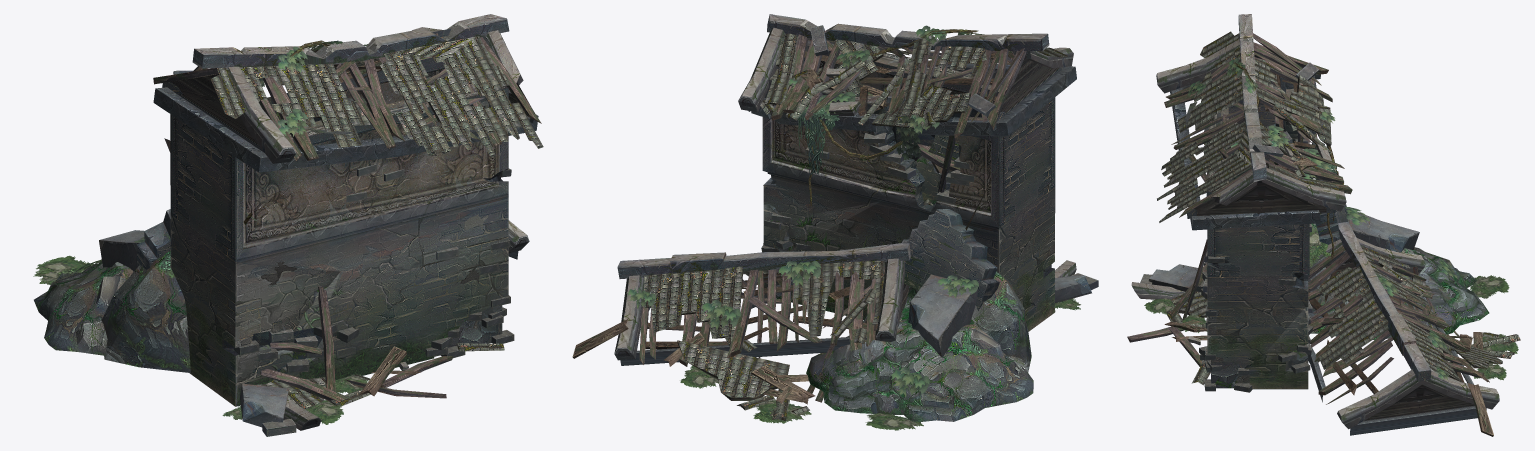
The model's file is Ruins_3.FBX.
3 views of the same model, side by side, from view 1: azimuth 30°, elevation 25°; view 2: azimuth 150°, elevation 25°; view 3: azimuth 270°, elevation 25° (orthographic). The views are drawn at different scales.
Visible parts, largest first — view 1: Ruins_3_A, Ruins_3_B, Ruins_3_C; view 2: Ruins_3_A, Ruins_3_B, Ruins_3_C; view 3: Ruins_3_A, Ruins_3_C, Ruins_3_B.
Part boxes in pixels (x1,y1,x2,y2): Ruins_3_A: (99, 14, 543, 436); Ruins_3_B: (34, 251, 190, 372); Ruins_3_C: (33, 40, 368, 424); Ruins_3_A: (572, 14, 1098, 420); Ruins_3_B: (806, 271, 1033, 421); Ruins_3_C: (626, 25, 1080, 430); Ruins_3_A: (1127, 14, 1520, 436); Ruins_3_C: (1144, 58, 1518, 380); Ruins_3_B: (1308, 219, 1489, 339).
Size of the model in its own units: 641 by 612 by 477.
